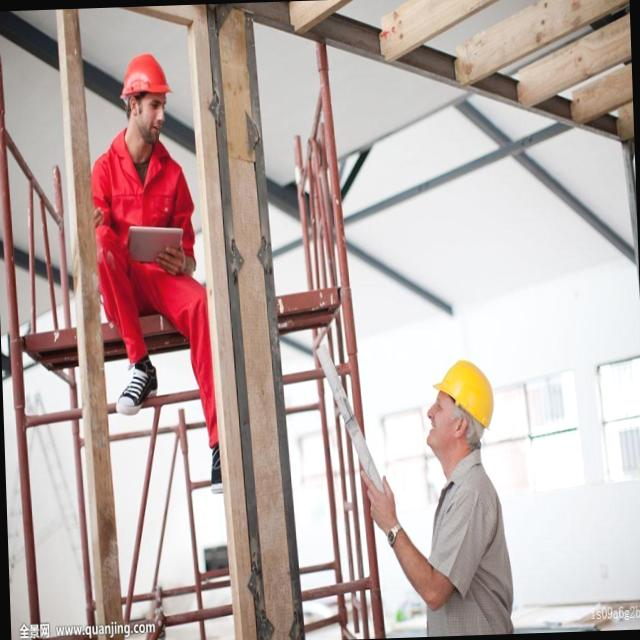helmet: (429, 352, 497, 433), (114, 53, 182, 111)
no-goggles: (418, 385, 469, 429), (130, 90, 176, 123)
no-vest: (429, 478, 503, 618)
vest: (90, 150, 192, 328)
